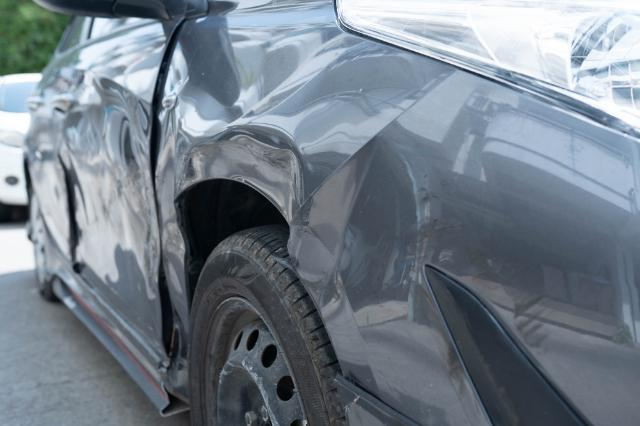dent: (168, 27, 316, 214), (62, 78, 157, 292), (295, 137, 405, 320), (169, 295, 189, 385)
